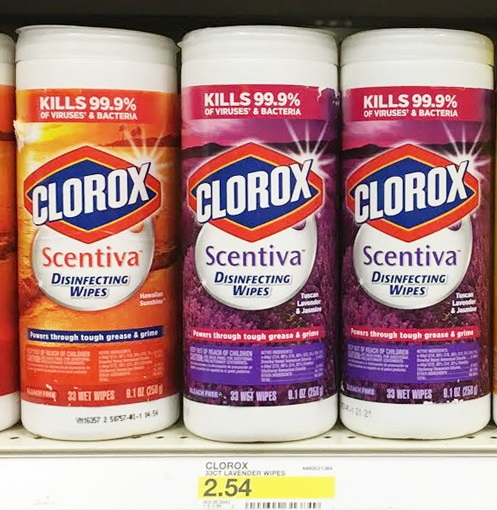Wipes: (12, 15, 185, 443), (174, 22, 343, 444), (338, 20, 494, 441), (1, 19, 22, 434)
